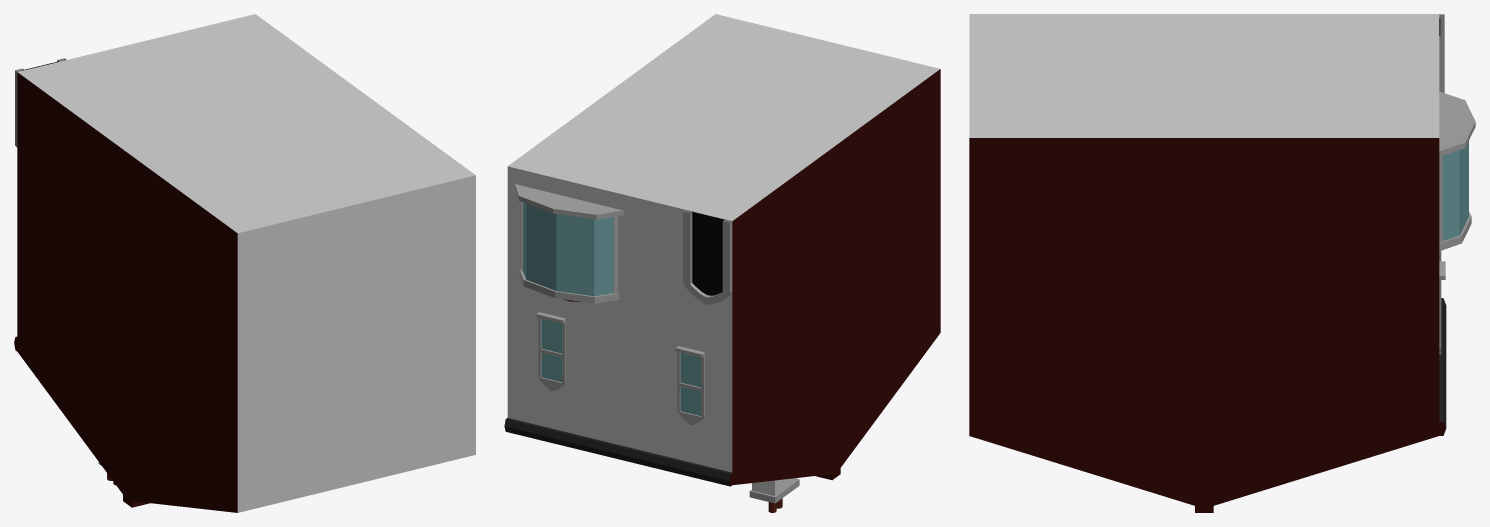
Rendered from Townhouse.obj.
The picture shows the model from 3 angles, left to right: view 1: azimuth 30°, elevation 25°; view 2: azimuth 150°, elevation 25°; view 3: azimuth 270°, elevation 25°; orthographic projection. The views are drawn at different scales.
Bounding box in the file's own units: 1.74 × 2.54 × 3.01.
